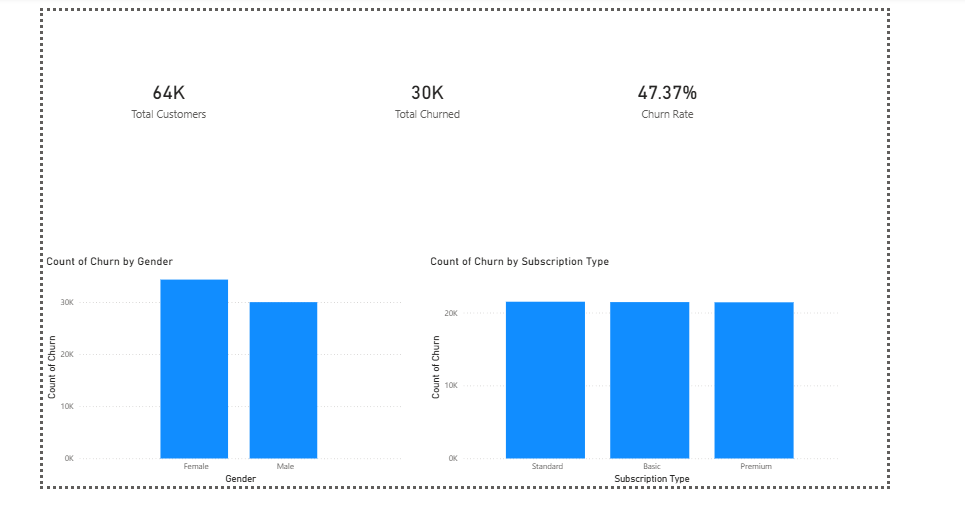

What the dashboard file says about the page in this screenshot:
{"tool":"powerbi","page":{"name":"Page 1","canvas":[1280,720],"ordinal":0},"visuals":[{"type":"clusteredColumnChart","fields":{"Category":["customer_churn_dataset-testing-master.Gender"],"Y":["CountNonNull(customer_churn_dataset-testing-master.Churn)"]},"box":[0,367.5,547.5,352.5],"z":0},{"type":"card","fields":{"Values":["customer_churn_dataset-testing-master.Total Customers"]},"box":[0,0,380,262.5],"z":1000},{"type":"card","fields":{"Values":["customer_churn_dataset-testing-master.Total Churned"]},"box":[380,0,405,262.5],"z":2000},{"type":"card","fields":{"Values":["customer_churn_dataset-testing-master.Churn Rate"]},"box":[680,0,532.5,262.5],"z":3000},{"type":"clusteredColumnChart","fields":{"Category":["customer_churn_dataset-testing-master.Subscription Type"],"Y":["CountNonNull(customer_churn_dataset-testing-master.Churn)"]},"box":[582.5,367.5,630,352.5],"z":3001}]}

Visuals, with their boxes on the page's 1280x720 design canvas (x1, y1, x2, y2). These are canvas units, not pixel positions in the 965x525 screenshot, which may show the page scaled, cropped or inside an application window:
clusteredColumnChart - customer_churn_dataset-testing-master.Gender x CountNonNull(customer_churn_dataset-testing-master.Churn): {"x1": 0, "y1": 368, "x2": 548, "y2": 720}
card - customer_churn_dataset-testing-master.Total Customers: {"x1": 0, "y1": 0, "x2": 380, "y2": 262}
card - customer_churn_dataset-testing-master.Total Churned: {"x1": 380, "y1": 0, "x2": 785, "y2": 262}
card - customer_churn_dataset-testing-master.Churn Rate: {"x1": 680, "y1": 0, "x2": 1212, "y2": 262}
clusteredColumnChart - customer_churn_dataset-testing-master.Subscription Type x CountNonNull(customer_churn_dataset-testing-master.Churn): {"x1": 582, "y1": 368, "x2": 1212, "y2": 720}
